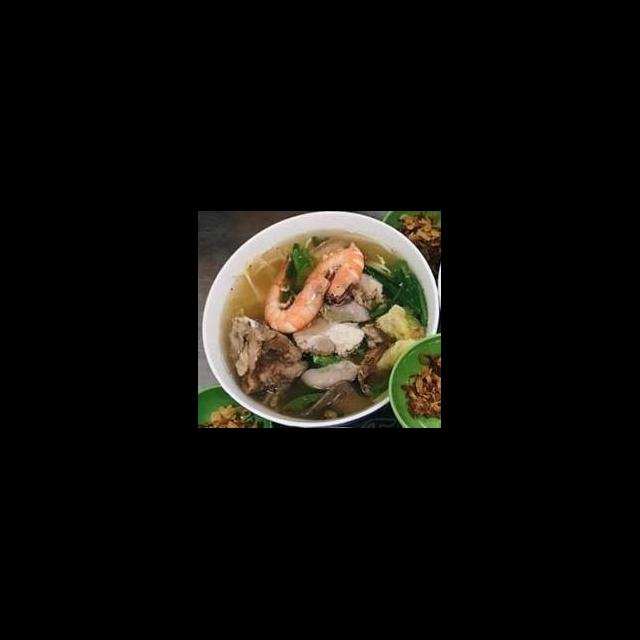thit heo: (224, 312, 310, 399), (290, 292, 372, 360)
tom: (260, 245, 334, 338), (294, 242, 369, 308)
